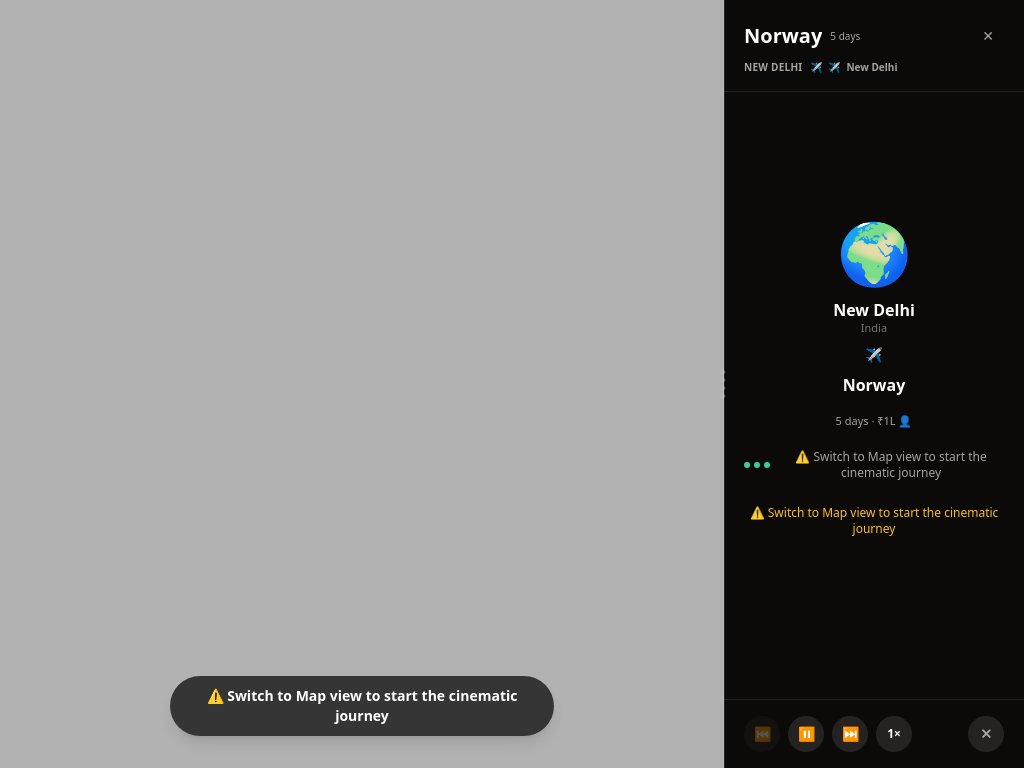
Scenario: ItineraryCinematic controls › rapid multi-clicks on speed stay deterministic
The width and height of the screenshot is (1024, 768).
// 4 clicks from 1× → 1.5× → 2× → 1× → 1.5×
Click the button named "Playback speed" at (894, 734), box [876,716,912,752]
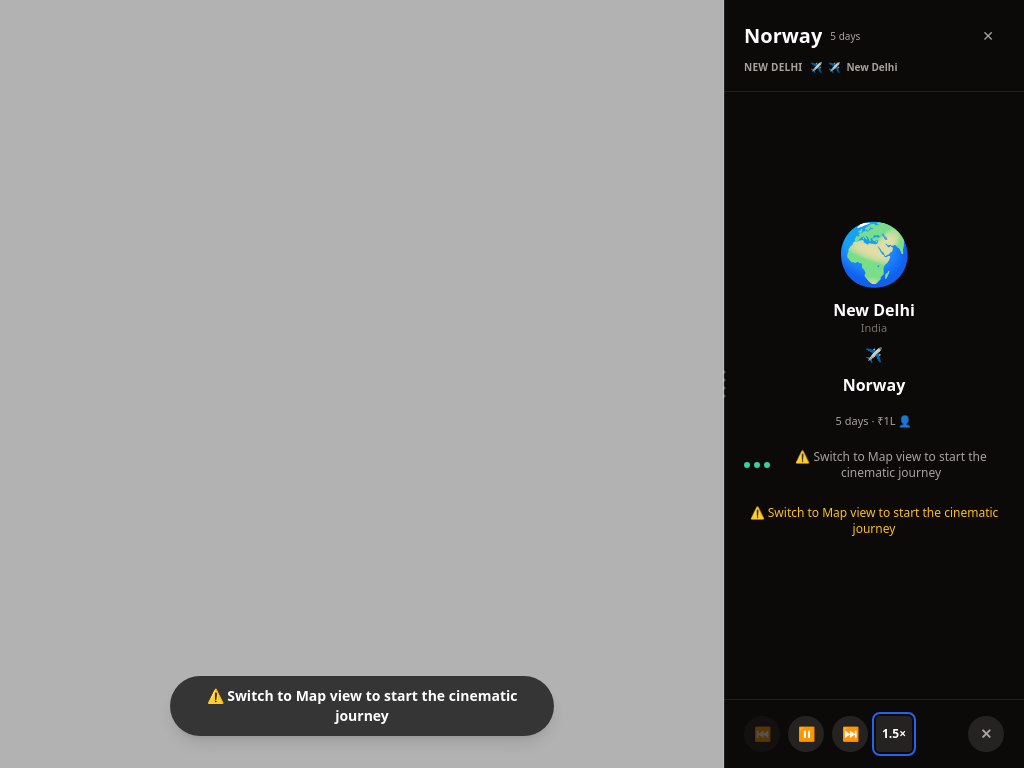
Click the button named "Playback speed" at (894, 734), box [876,716,912,752]
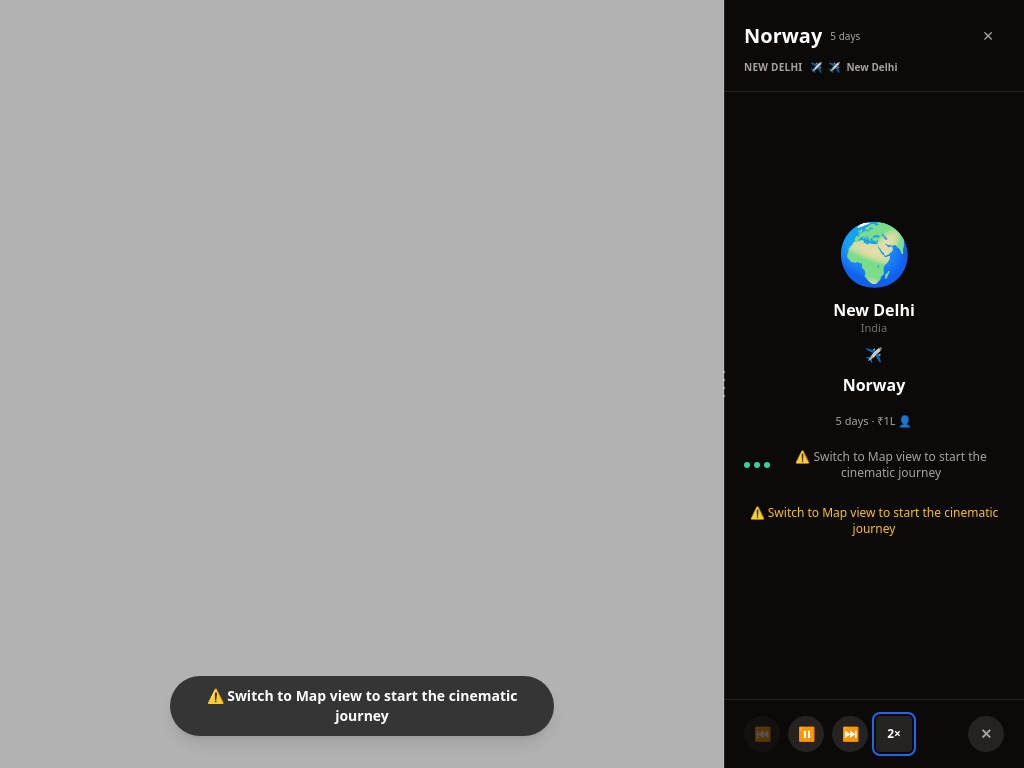
Click the button named "Playback speed" at (894, 734), box [876,716,912,752]
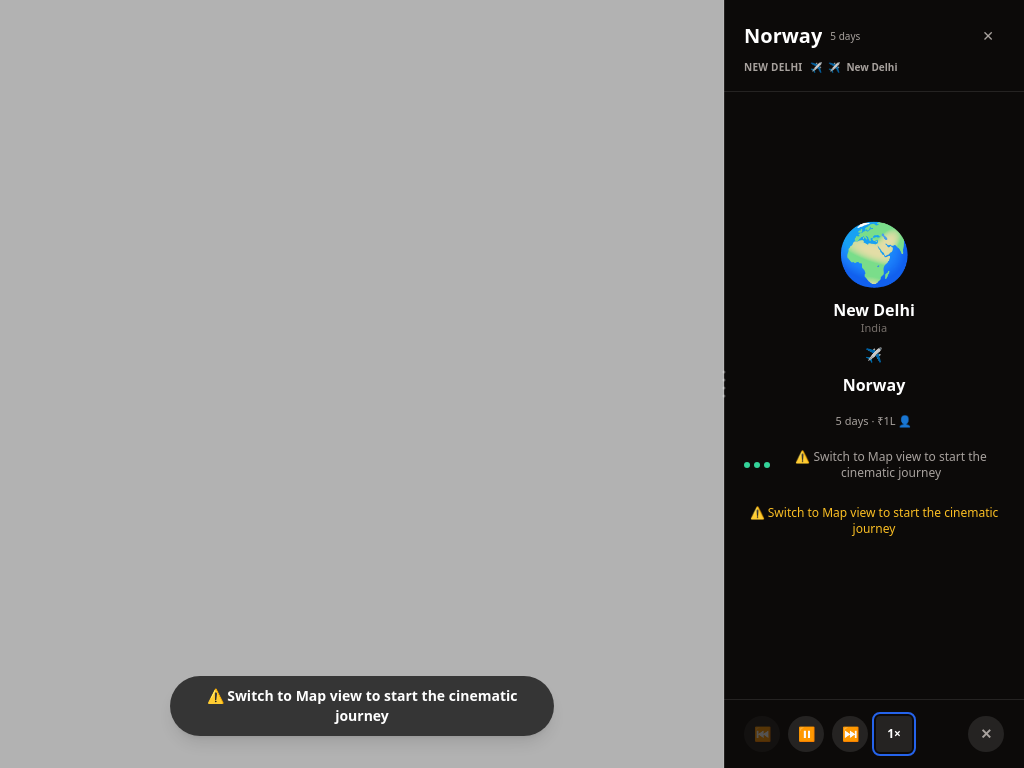
Click the button named "Playback speed" at (894, 734), box [876,716,912,752]
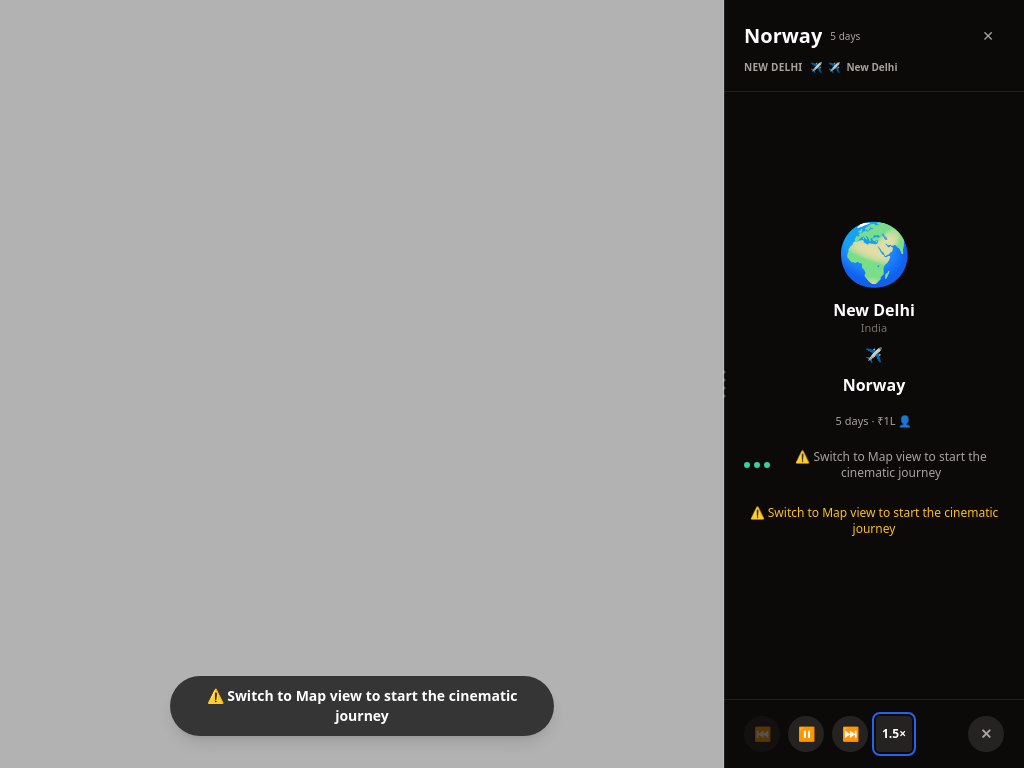
Expected: the button named "Playback speed" reads "1.5×", [876,716,912,752]
